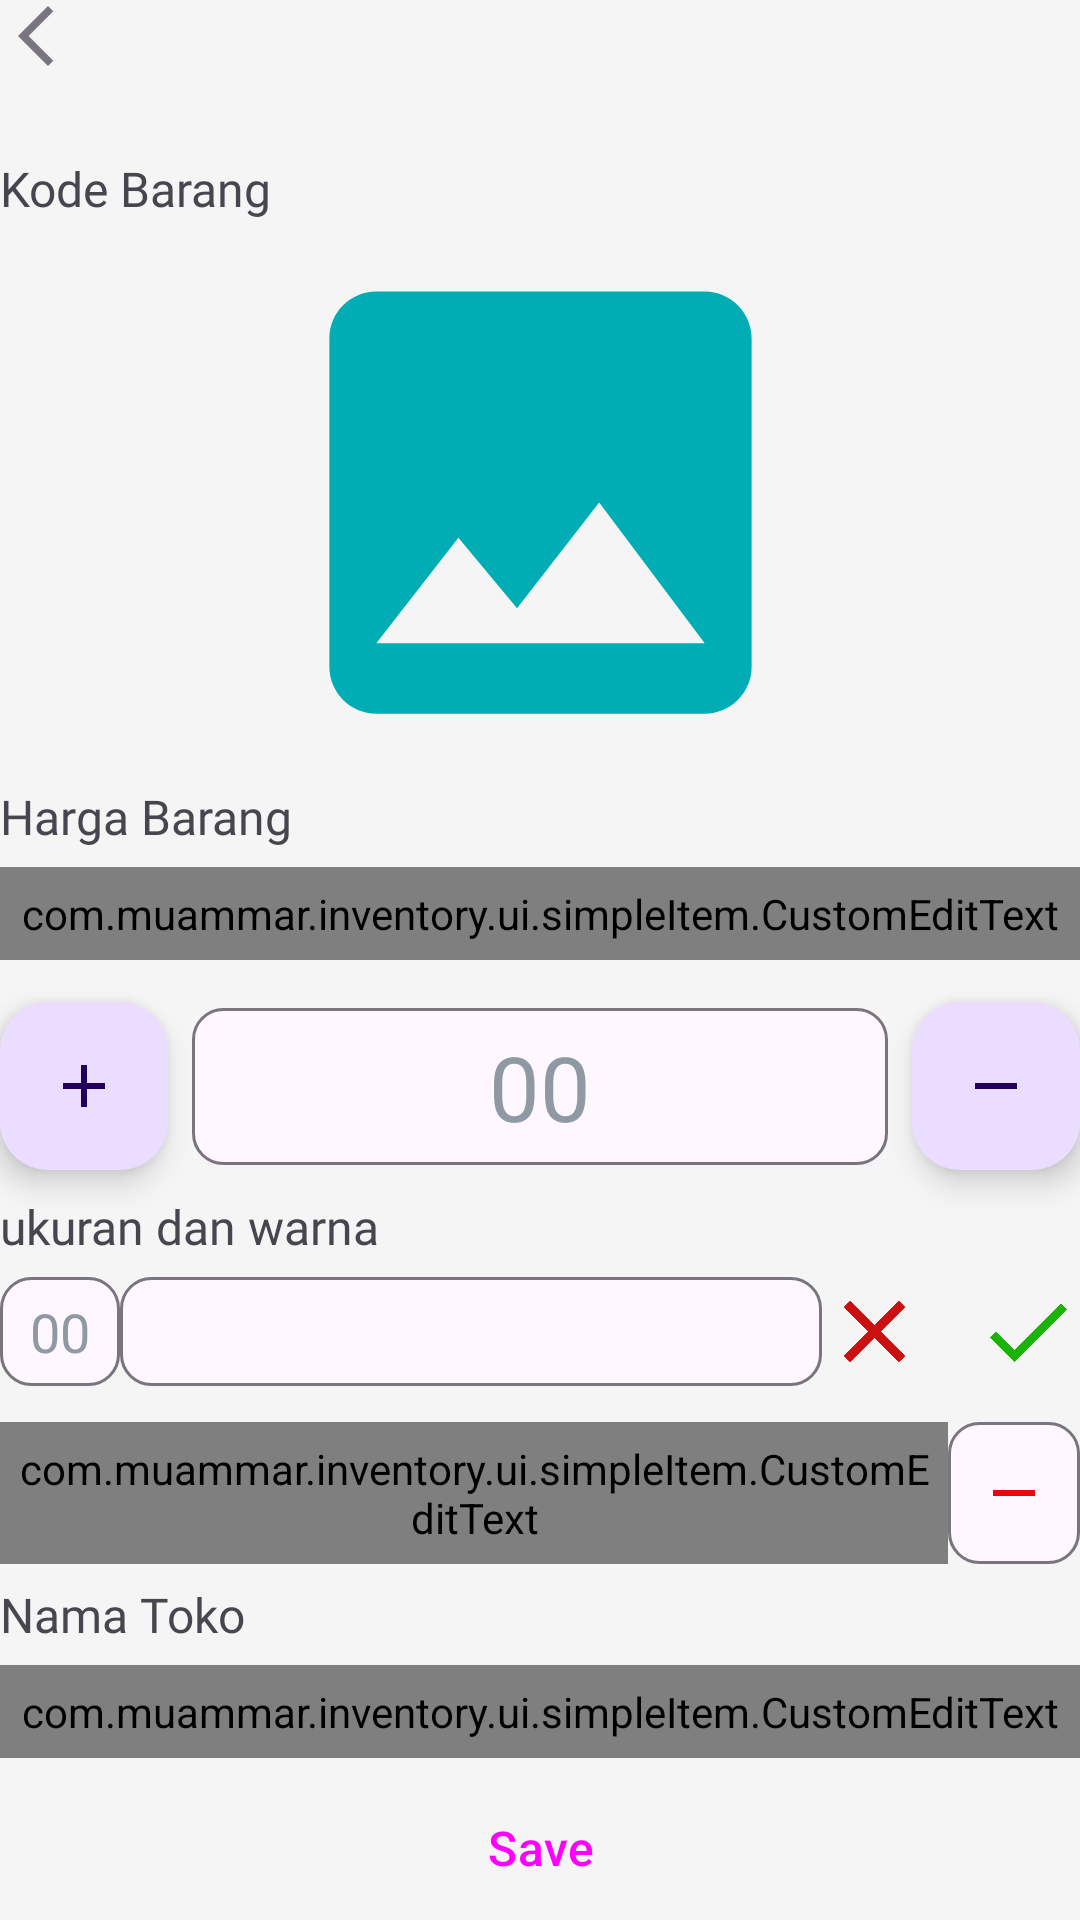

Named icons in this screenshot (1080w x 1920h) and their bounding boxes, BBox(x1, y1, x2, y2):
add: BBox(0, 1002, 168, 1170)
arrow back: BBox(18, 6, 53, 66)
check: BBox(990, 1304, 1067, 1362)
close: BBox(844, 1301, 905, 1362)
remove: BBox(912, 1002, 1080, 1170), BBox(948, 1422, 1080, 1564)
